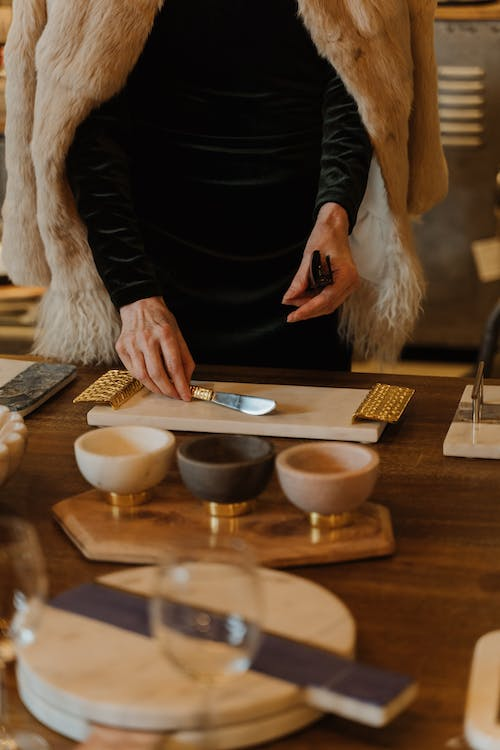knife: (189, 382, 279, 418)
